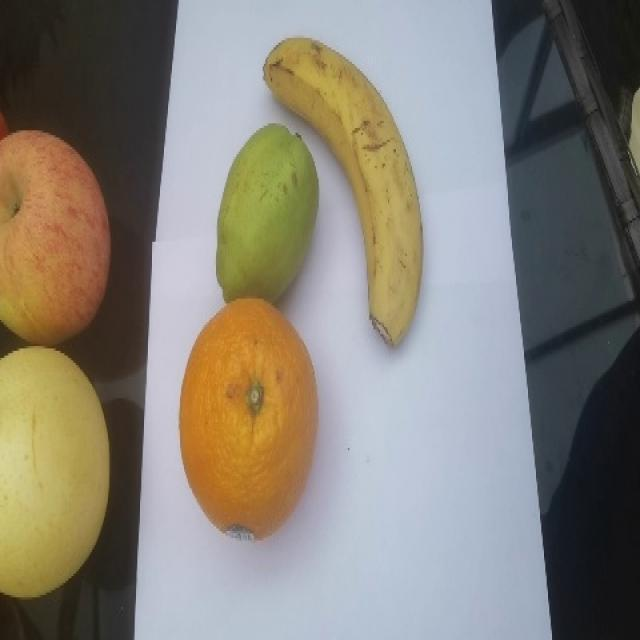Apple: (0, 128, 111, 346)
Banana: (261, 36, 424, 347)
Orange: (178, 296, 318, 541)
